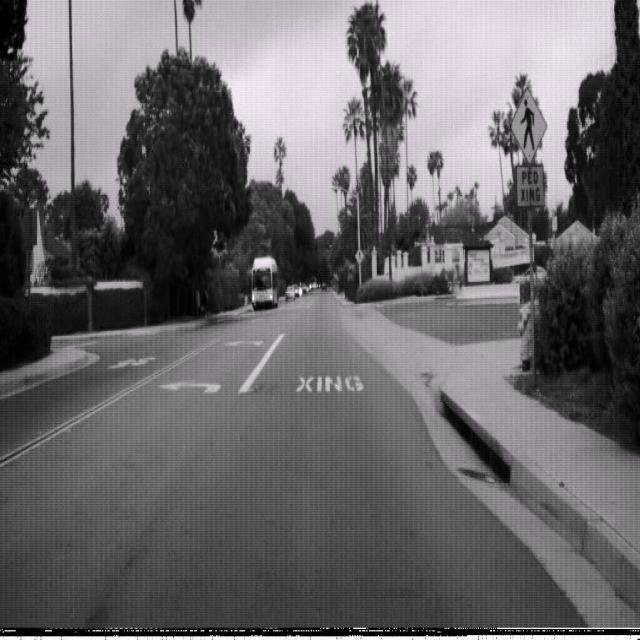pedestrianCrossing: (509, 86, 547, 165)
